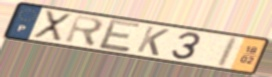3: (170, 31, 203, 61)
E: (97, 18, 143, 54)
I: (213, 35, 241, 69)
K: (134, 25, 172, 57)
R: (62, 14, 105, 49)
X: (30, 9, 75, 44)
